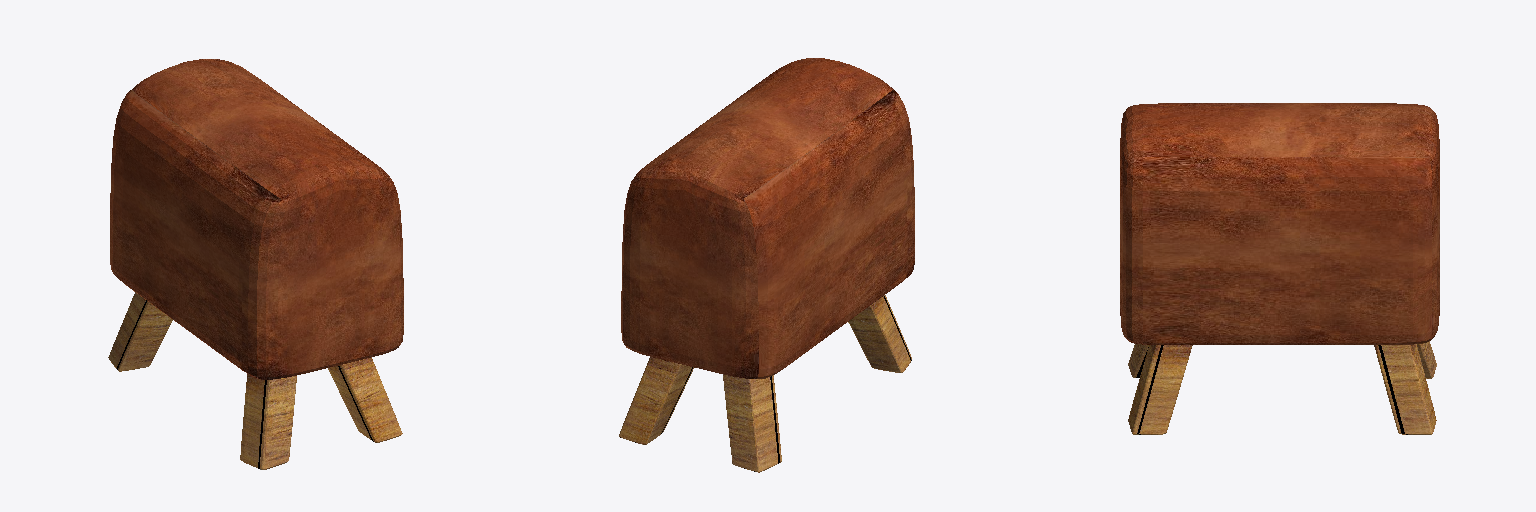
3 views of the same model, side by side, from view 1: azimuth 30°, elevation 25°; view 2: azimuth 150°, elevation 25°; view 3: azimuth 270°, elevation 25° (orthographic).
Visible parts, largest first — view 1: pCube1, group1 pCube5, pCube2 group2, pCube4 group1; view 2: pCube1, pCube4 group1, group2 pCube3, group1 pCube5; view 3: pCube1, pCube2 group2, group2 pCube3.
Boxes of the visible parts, x1=… form: pCube1: x1=110, y1=59, x2=403, y2=379; group1 pCube5: x1=240, y1=374, x2=296, y2=469; pCube2 group2: x1=328, y1=357, x2=402, y2=442; pCube4 group1: x1=108, y1=292, x2=172, y2=371; pCube1: x1=621, y1=58, x2=914, y2=378; pCube4 group1: x1=723, y1=374, x2=781, y2=472; group2 pCube3: x1=619, y1=357, x2=693, y2=444; group1 pCube5: x1=848, y1=295, x2=911, y2=372; pCube1: x1=1120, y1=103, x2=1439, y2=344; pCube2 group2: x1=1128, y1=345, x2=1192, y2=434; group2 pCube3: x1=1374, y1=344, x2=1436, y2=434.
Bounding box in the file's own units: 28 × 49.84 × 50.
Materials: 5 (5 with a texture image).